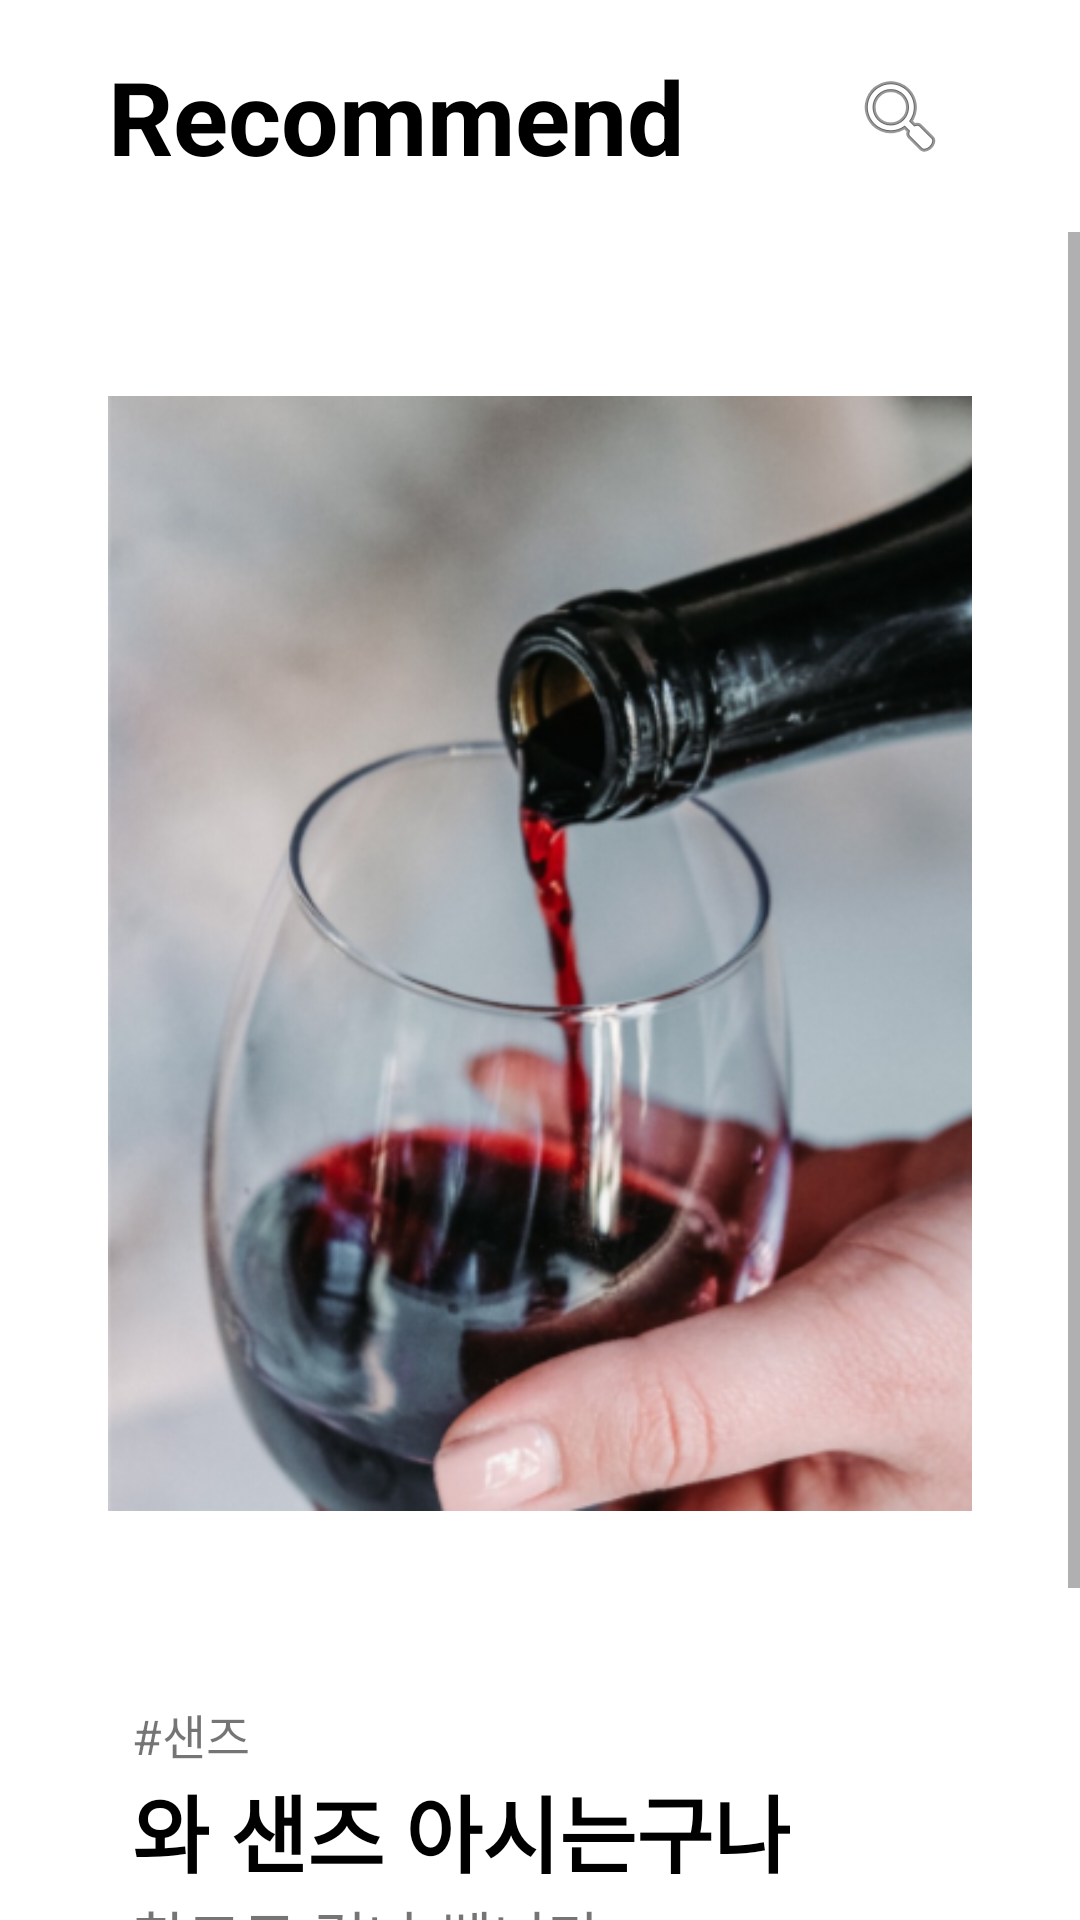

Named icons in this screenshot (1080w x 1920h) and their bounding boxes, (x1, y1, x2, y2):
search: (864, 81, 936, 152)
